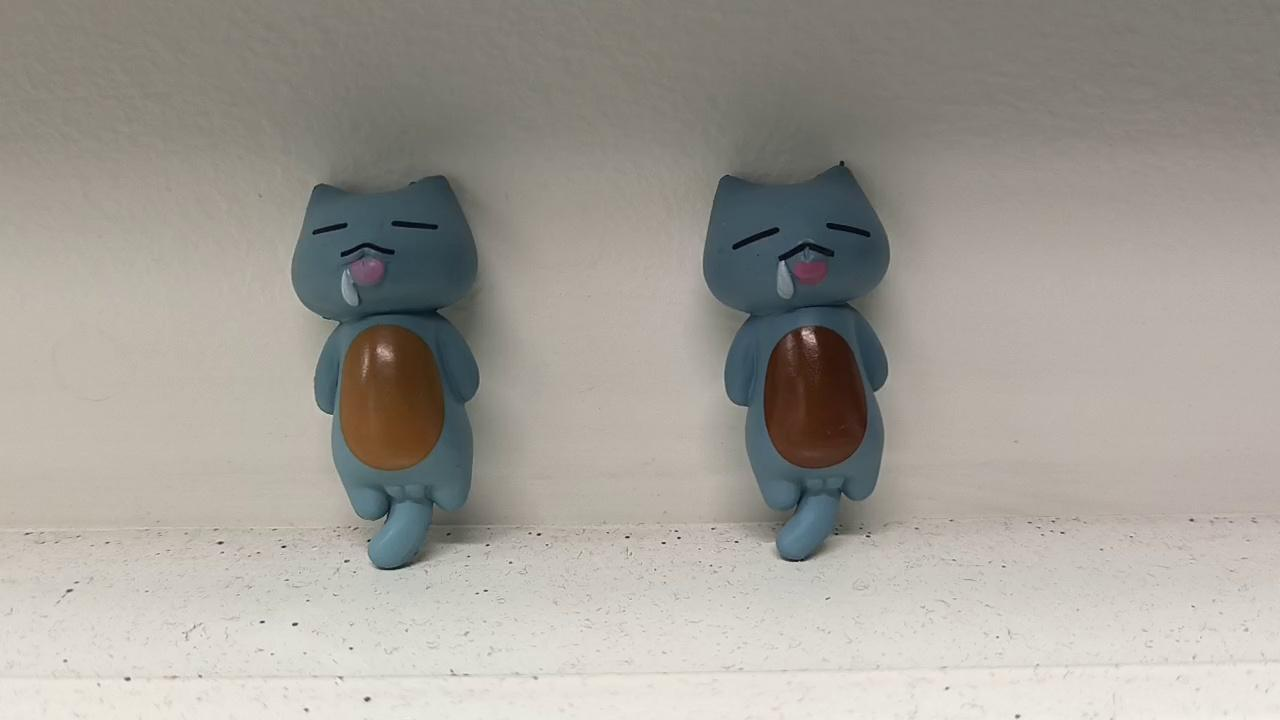pet: (701, 154, 897, 567), (294, 164, 485, 576)
